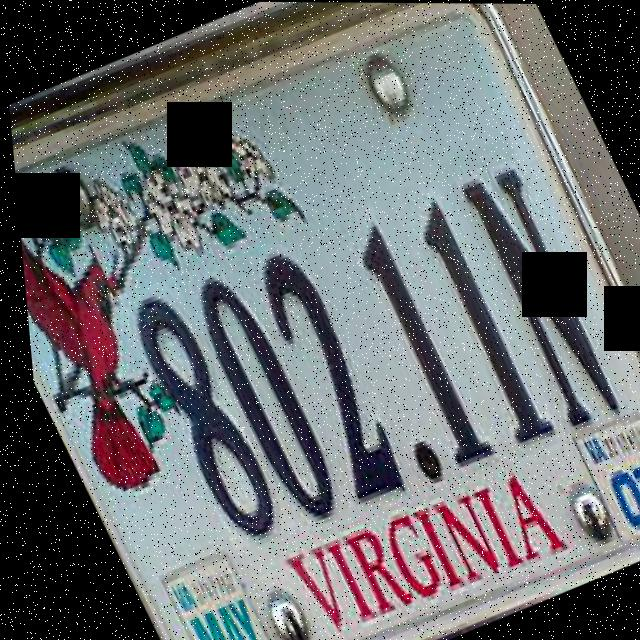0: (166, 251, 353, 539)
1: (377, 164, 562, 464), (327, 196, 500, 480)
8: (106, 275, 288, 550)
N: (433, 134, 637, 442)
